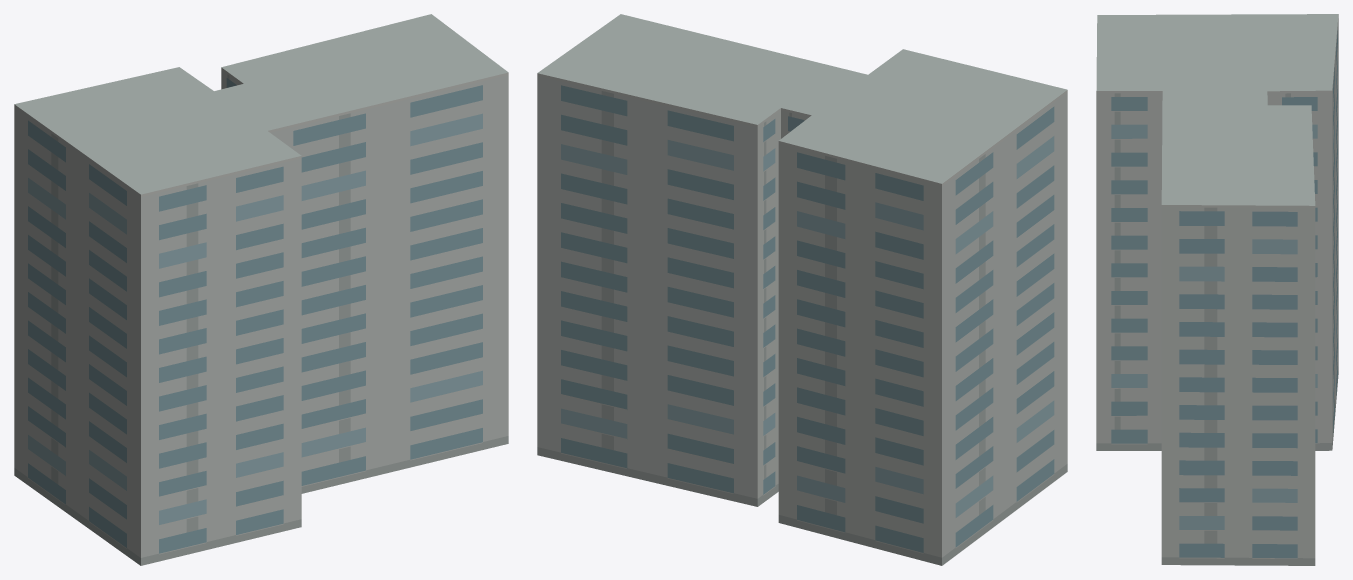
The model's file is survey-upis-32765316.glb.
3 views of the same model, side by side, from view 1: azimuth 30°, elevation 25°; view 2: azimuth 150°, elevation 25°; view 3: azimuth 270°, elevation 25° (orthographic). The views are drawn at different scales.
Visible parts, largest first — view 1: survey-upis-32765316.tmp; view 2: survey-upis-32765316.tmp; view 3: survey-upis-32765316.tmp.
Part boxes in pixels (box(x1,y1,x2,y2)): survey-upis-32765316.tmp: box(14, 14, 508, 565); survey-upis-32765316.tmp: box(537, 14, 1067, 565); survey-upis-32765316.tmp: box(1096, 14, 1338, 565).
Size of the model in its own units: 41.71 by 36.5 by 22.24.
